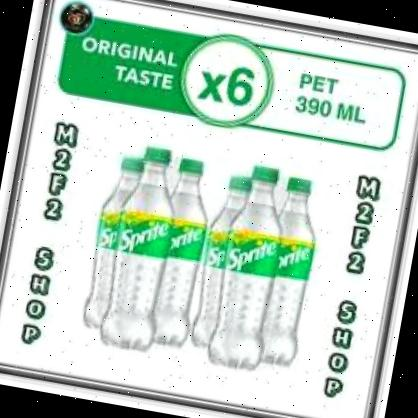bottle: (103, 142, 190, 361), (216, 158, 295, 384), (254, 169, 335, 367), (146, 159, 222, 357), (81, 147, 144, 339), (199, 172, 253, 346)
cap: (140, 140, 174, 171), (284, 172, 318, 199), (248, 162, 282, 188), (119, 151, 150, 177), (177, 154, 207, 180), (228, 169, 255, 192)
label: (115, 208, 171, 258), (271, 243, 322, 286), (222, 229, 274, 271), (160, 219, 208, 260), (90, 209, 130, 244), (204, 228, 235, 262)
